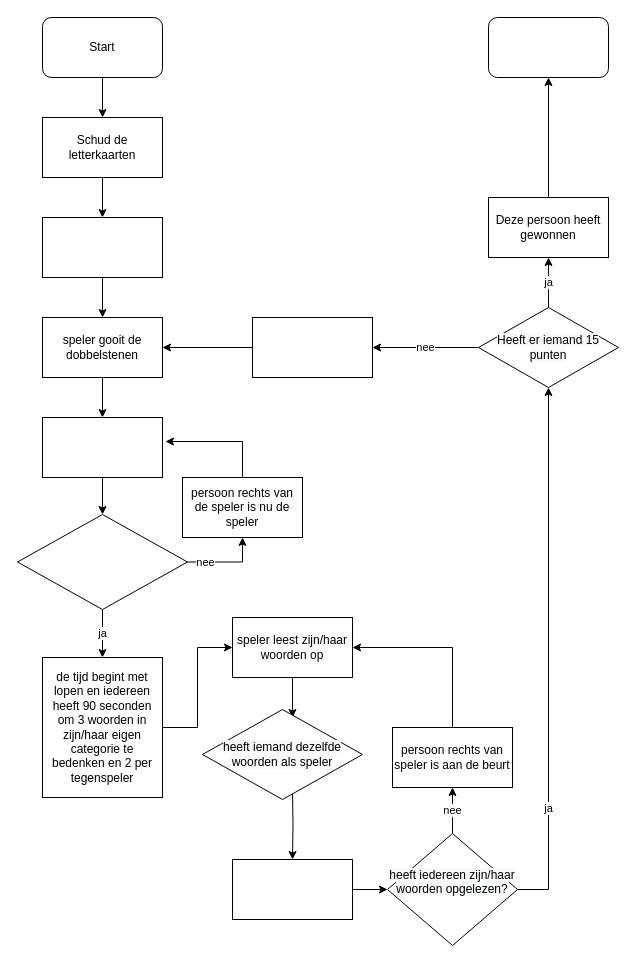
Image size: 636x963. Some labels were removed from this diagram. Each missing label, with the centre of its shape:
"Einde" goes at point 548,47.
"hebben alle spelers een dobbelsteen?" goes at point 102,562.
"Jongste persoon is aan de beurt (speler)" goes at point 102,247.
"speler kiest een dobbelsteen" goes at point 102,447.
"speler krijgt x punten voor de originele woorden" goes at point 292,889.
"speler rechts van vorige speler begint nu" goes at point 312,347.
